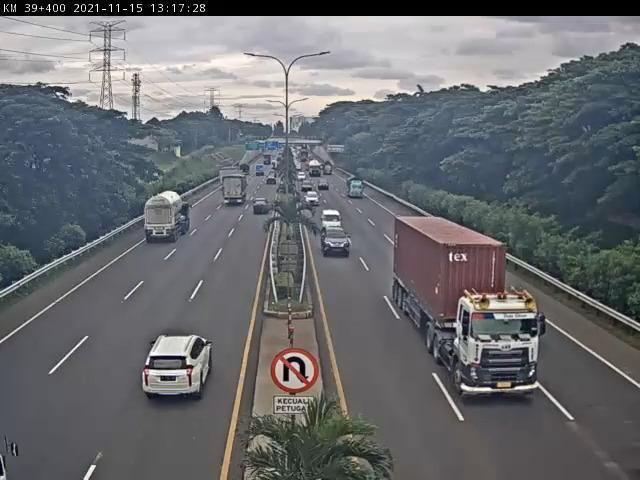car: (145, 332, 214, 403), (321, 228, 353, 259), (321, 209, 346, 231), (252, 197, 272, 218), (304, 191, 322, 207)
truck: (394, 214, 542, 401), (144, 189, 191, 246), (219, 174, 253, 210)
